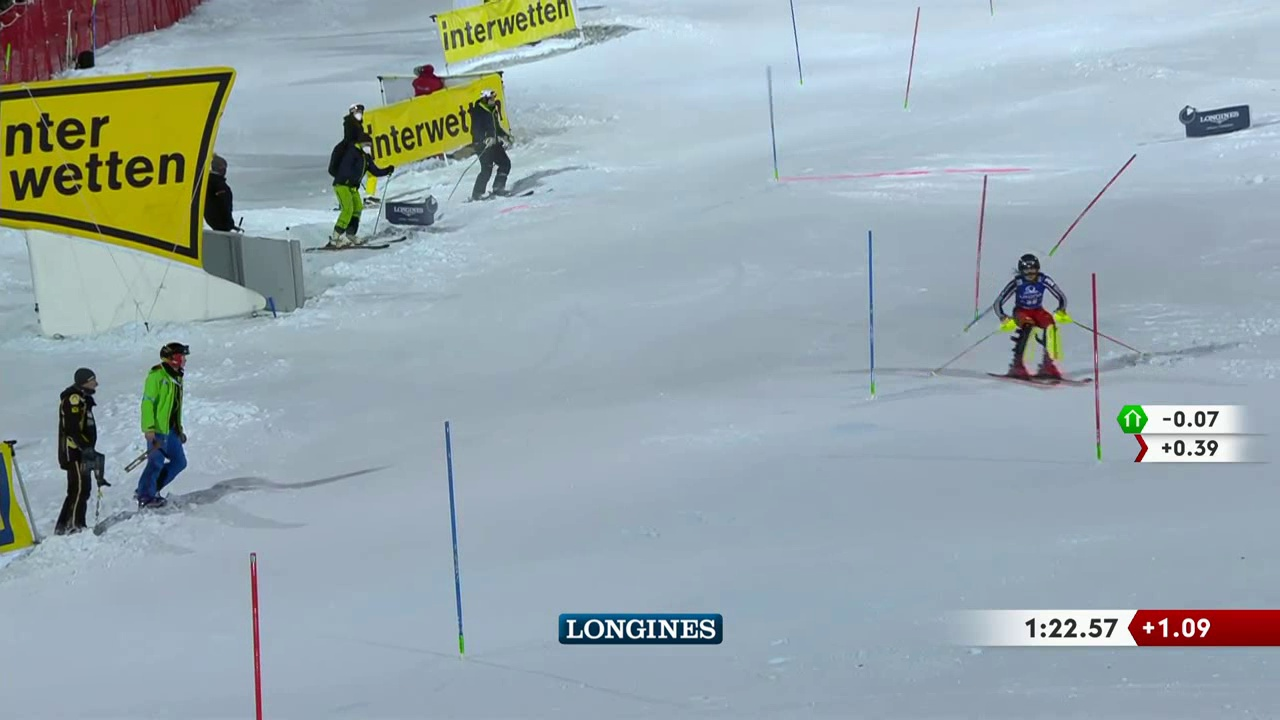interwetten: (1, 79, 208, 244)
longines: (553, 612, 734, 648), (1190, 105, 1249, 136)
raiffeisen: (6, 71, 203, 247), (349, 86, 500, 177), (429, 1, 586, 63)
